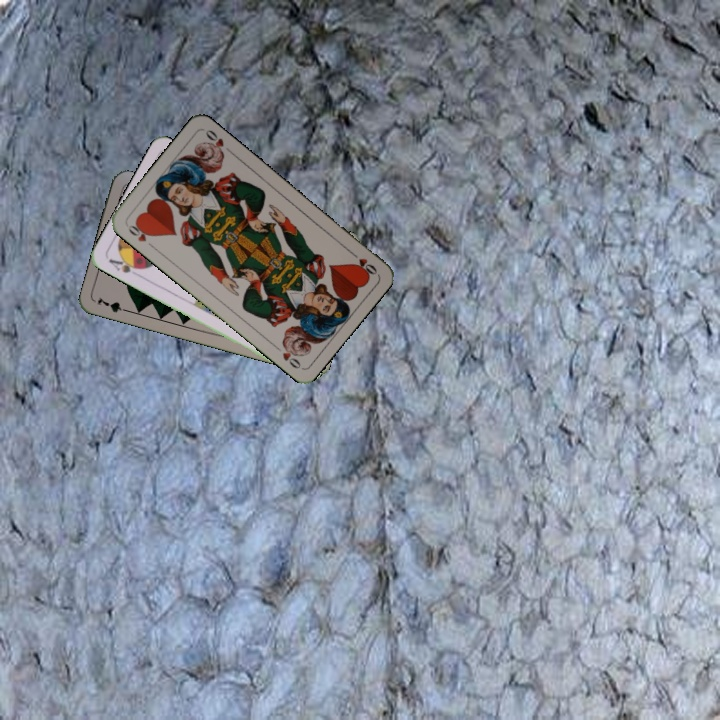G7: (93, 293, 133, 315)
HO: (123, 218, 157, 251), (345, 247, 380, 278)
SA: (105, 253, 145, 276)
